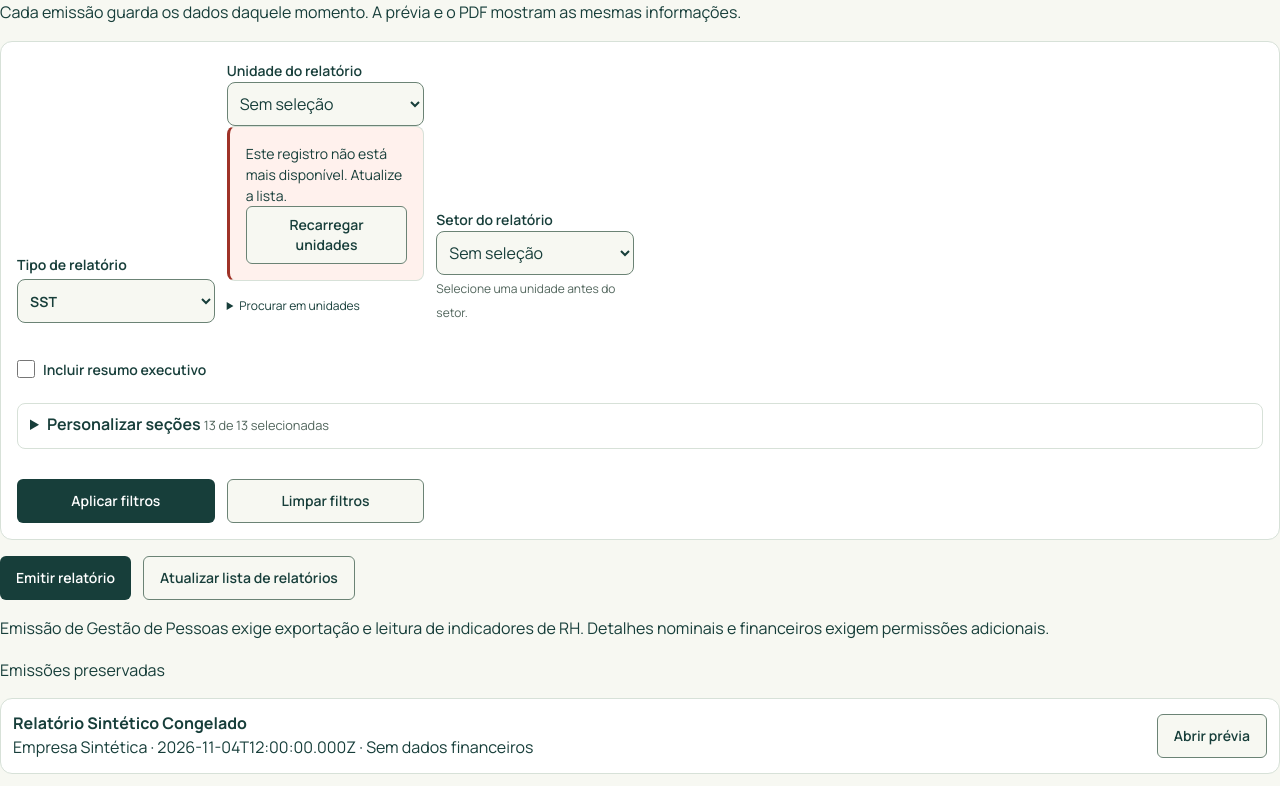
mostra o snapshot congelado sem consultar indicadores atuais e restringe emissão PEOPLE
The width and height of the screenshot is (1280, 786).
Click the button with aria-label "Abrir Relatório Sintético Congelado".
click(1212, 736)  # box [1157,714,1267,758]
(page scrolled)
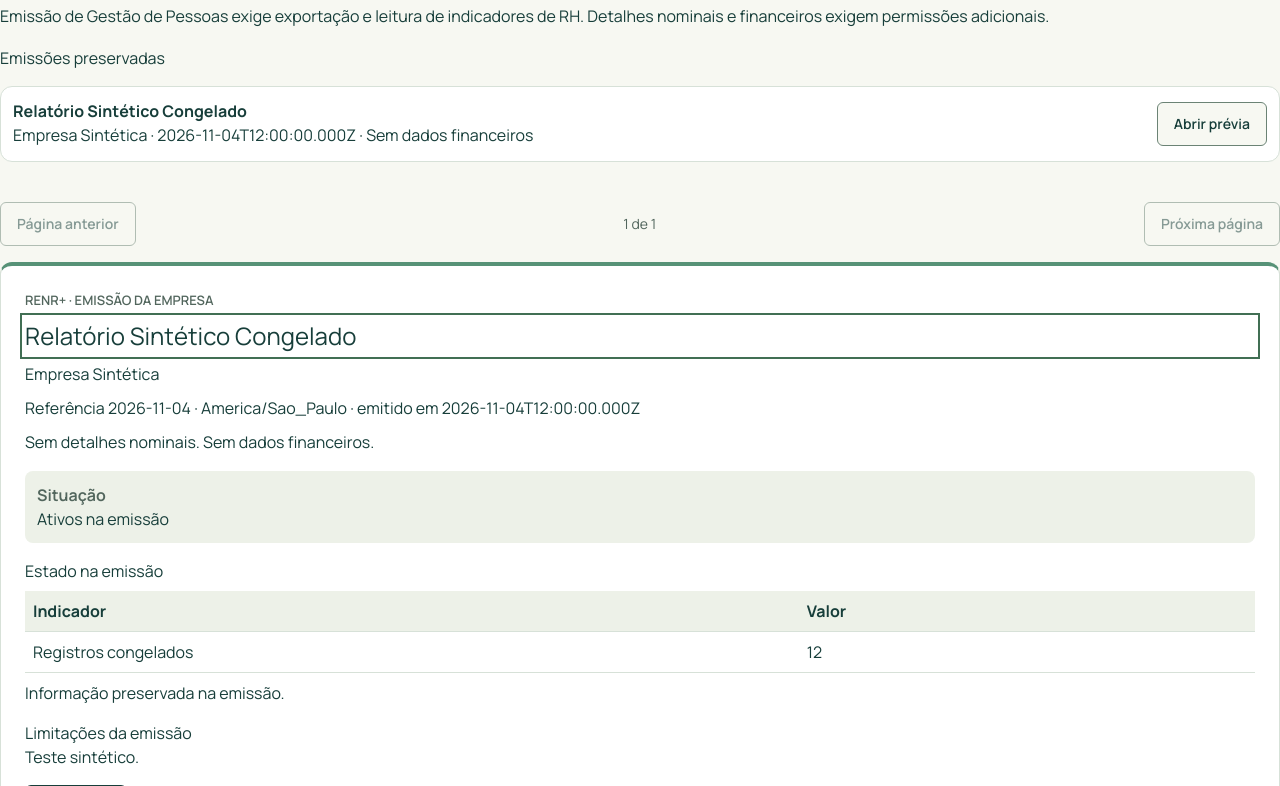
Now the table named "Estado na emissão" is shown, box [25,591,1255,673]
Now the text "Registros congelados" is shown, box [25,632,799,673]
Now the text "12" is shown, box [799,632,1255,673]
